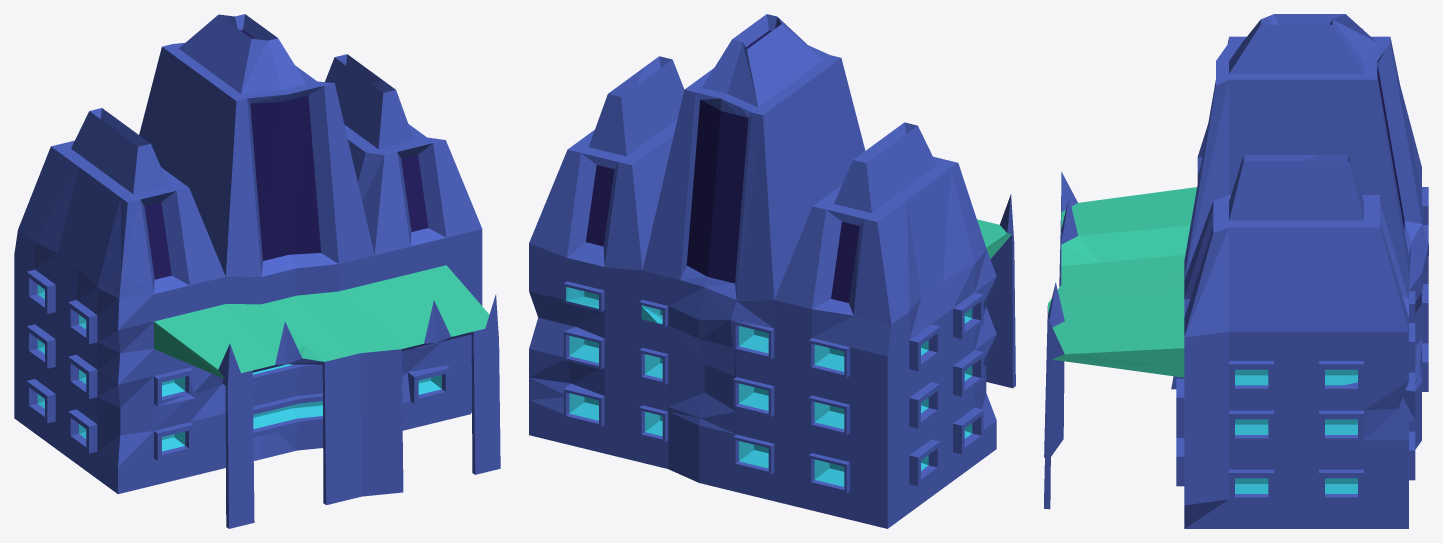
The picture shows the model from 3 angles, left to right: view 1: azimuth 30°, elevation 25°; view 2: azimuth 150°, elevation 25°; view 3: azimuth 270°, elevation 25°; orthographic projection. The views are drawn at different scales.
Visible parts, largest first — view 1: Box001_Part_4, Box001_Part_3, Box001_Part_1, Box001_Part_5, Box001_Part_2; view 2: Box001_Part_1, Box001_Part_5, Box001_Part_4, Box001_Part_3, Box001_Part_6, Box001_Part_2; view 3: Box001_Part_5, Box001_Part_4, Box001_Part_2, Box001_Part_6, Box001_Part_3, Box001_Part_1.
Boxes of the visible parts, left/top/right/bottom form: Box001_Part_4: left=139, top=14, right=498, bottom=451; Box001_Part_3: left=14, top=276, right=387, bottom=528; Box001_Part_1: left=14, top=108, right=307, bottom=345; Box001_Part_5: left=239, top=14, right=486, bottom=311; Box001_Part_2: left=262, top=264, right=500, bottom=496; Box001_Part_1: left=768, top=122, right=979, bottom=479; Box001_Part_5: left=547, top=35, right=739, bottom=407; Box001_Part_4: left=733, top=14, right=865, bottom=449; Box001_Part_3: left=786, top=194, right=1015, bottom=528; Box001_Part_6: left=529, top=199, right=741, bottom=422; Box001_Part_2: left=529, top=394, right=796, bottom=506; Box001_Part_5: left=1077, top=21, right=1428, bottom=375; Box001_Part_4: left=1045, top=14, right=1428, bottom=404; Box001_Part_2: left=1044, top=350, right=1428, bottom=528; Box001_Part_6: left=1185, top=282, right=1421, bottom=492; Box001_Part_3: left=1056, top=155, right=1428, bottom=438; Box001_Part_1: left=1099, top=28, right=1428, bottom=344.
Size of the model in its own units: 125 by 127 by 105.
